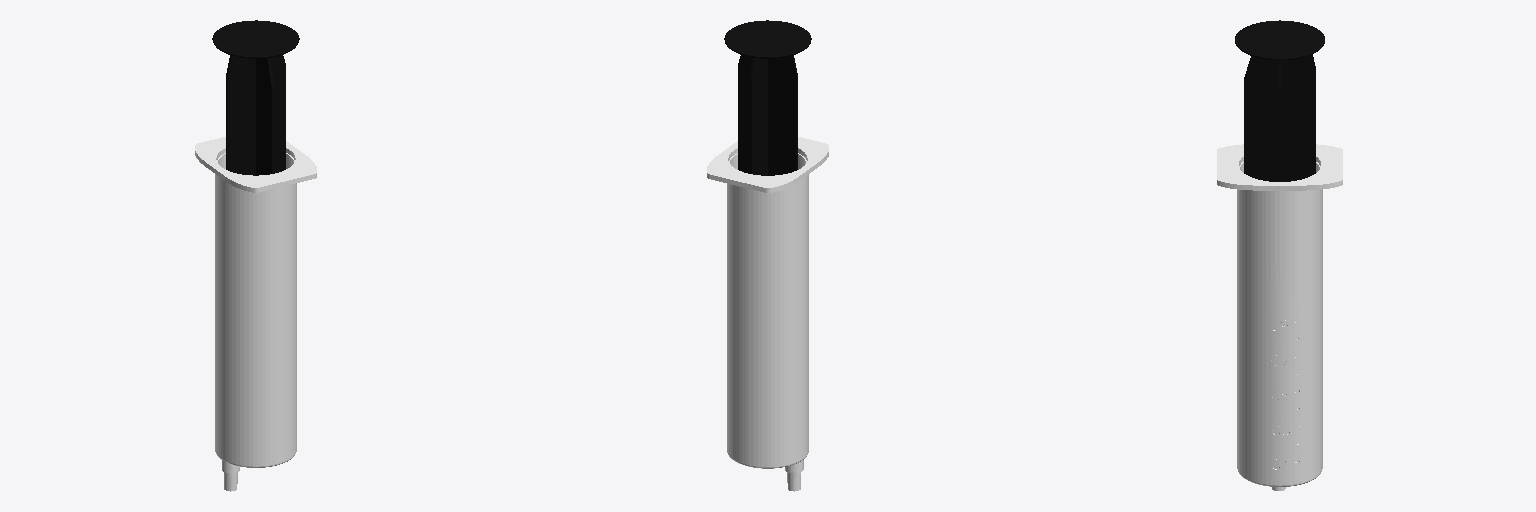
URDF robot description (Syring):
<?xml version="1.0" ?>
<robot name="Syring">

<!-- <material name="silver">
  <color rgba="0.700 0.700 0.700 1.000"/>
</material> -->

<link name="base_link">
  <inertial>
    <origin xyz="-9.69676812777065e-05 -3.7062129761333643e-06 -0.059489805024728816" rpy="0 0 0"/>
    <mass value="2.160402332109307"/>
    <inertia ixx="5.519511350339627e-05" iyy="5.4766030198631136e-05" izz="7.346982750624242e-06" ixy="-6.598385487962793e-10" iyz="-6.950057171044761e-09" ixz="-1.93024270303283e-07"/>
  </inertial>
    
  <visual>
    <material name="silver">
      <color rgba="1 1 1 0.5"/>
    </material>
    <origin xyz="0 0 0" rpy="0 0 0"/>
    <geometry>
      <mesh filename="meshes/base_link.stl" scale="0.001 0.001 0.001"/>
    </geometry>
    
  </visual>
  <collision >
    <origin xyz="0 0 0" rpy="0 0 0"/>
    <geometry>
      <mesh filename="meshes/base_link.stl" scale="0.001 0.001 0.001"/>
    </geometry>
      <contact>
      <soft_cfm value="0.0"/>
      <soft_erp value="0.2"/>
  </contact>
  </collision>
</link>

<link name="pusher1">
  <inertial>
    <origin xyz="-9.808940367053015e-06 2.8392271765312675e-05 0.07304535105591148" rpy="0 0 0"/>
    <mass value="2.0758222238993023"/>
    <inertia ixx="1.8679938527088004e-05" iyy="1.8679755196229935e-05" izz="7.163776494351196e-07" ixy="-2.9961444546012886e-12" iyz="-1.5600143718487594e-08" ixz="5.42754991670739e-09"/>
  </inertial>
  <visual>
    <origin xyz="-0.0 -0.0 0.08094" rpy="0 0 0"/>
    <geometry>
      <mesh filename="meshes/pusher1.stl" scale="0.001 0.001 0.001"/>
    </geometry>
    <material name="black">
    <color rgba="0.1 0.1 0.1 1"/>
    </material>
  </visual>
  <collision>
    <origin xyz="-0.0 -0.0 0.08094" rpy="0 0 0"/>
    <geometry>
      <mesh filename="meshes/pusher1.stl" scale="0.001 0.001 0.001"/>
    </geometry>
      <contact>
      <soft_cfm value="0.0"/>
      <soft_erp value="0.2"/>
  </contact>
  </collision>
</link>

<link name="rubber1">
  <inertial>
    <origin xyz="-1.3360868227109907e-18 0.0 0.004000080987635005" rpy="0 0 0"/>
    <mass value="1.736422164184656"/>
    <inertia ixx="1.8185887601233387e-07" iyy="1.8185887601234065e-07" izz="3.1319591560670543e-07" ixy="2.5313084961453567e-22" iyz="-5.062616992290713e-22" ixz="-3.8020878614324406e-25"/>
  </inertial>
  <visual>
    <origin xyz="-0.0 -0.0 0.08894" rpy="0 0 0"/>
    <geometry>
      <mesh filename="meshes/rubber1.stl" scale="0.001 0.001 0.001"/>
    </geometry>
    <material name="blak">
    <color rgba="0.3 0.3 0.3 1"/>
    </material>
  </visual>
  <collision>
    <origin xyz="-0.0 -0.0 0.08894" rpy="0 0 0"/>
    <geometry>
      <mesh filename="meshes/rubber1.stl" scale="0.001 0.001 0.001"/>
    </geometry>
      <contact>
      <soft_cfm value="0.0"/>
      <soft_erp value="0.2"/>
  </contact>
  </collision>
</link>

<joint name="Rigid_3" type="fixed">
  <origin xyz="0.0 0.0 0.008" rpy="0 0 0"/>
  <parent link="rubber1"/>
  <child link="pusher1"/>
</joint>

<joint name="Rigid_4" type="fixed">
  <origin xyz="0.0 0.0 -0.08894" rpy="0 0 0"/>
  <parent link="base_link"/>
  <child link="rubber1"/>
</joint>

</robot>

--- Facts derived from the render (not from the file) ---
The picture shows the robot from 3 angles, left to right: view 1: azimuth 30°, elevation 25°; view 2: azimuth 150°, elevation 25°; view 3: azimuth 270°, elevation 25°; orthographic projection.
Model Syring with 3 links and 2 joints (2 fixed), rooted at base_link, posed all joints at 0.
Visible links, largest first — view 1: base_link, pusher1; view 2: base_link, pusher1; view 3: base_link, pusher1.
Link boxes in pixels (box(x1,y1,x2,y2)): base_link: box(195, 137, 316, 491); pusher1: box(212, 20, 299, 175); base_link: box(707, 137, 828, 491); pusher1: box(724, 20, 811, 175); base_link: box(1217, 144, 1342, 490); pusher1: box(1235, 20, 1324, 181).
Bounding box of the posed robot: 0.036 × 0.046 × 0.1853 m (x, y, z).
Meshes: 3 distinct files referenced, 3 mesh visuals loaded (3 binary STL).
